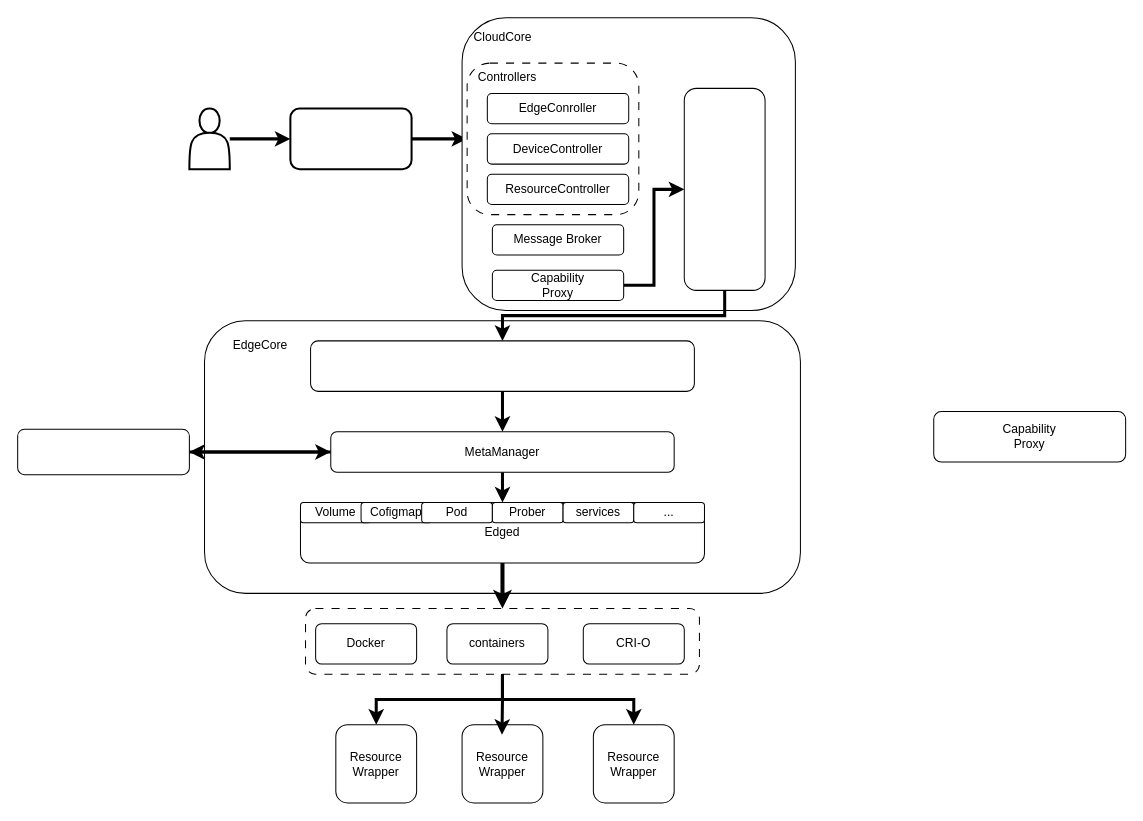
Image size: 1143x821. Some labels were removed from this diagram. The shapes that lost their labels are listed below. From the top down, each one's centre as x and y in pixels, then its label:
[350,138]: K8S API server
[724,188]: Cloud Hub
[502,365]: EdgeHub
[103,451]: Node Level DataStore
